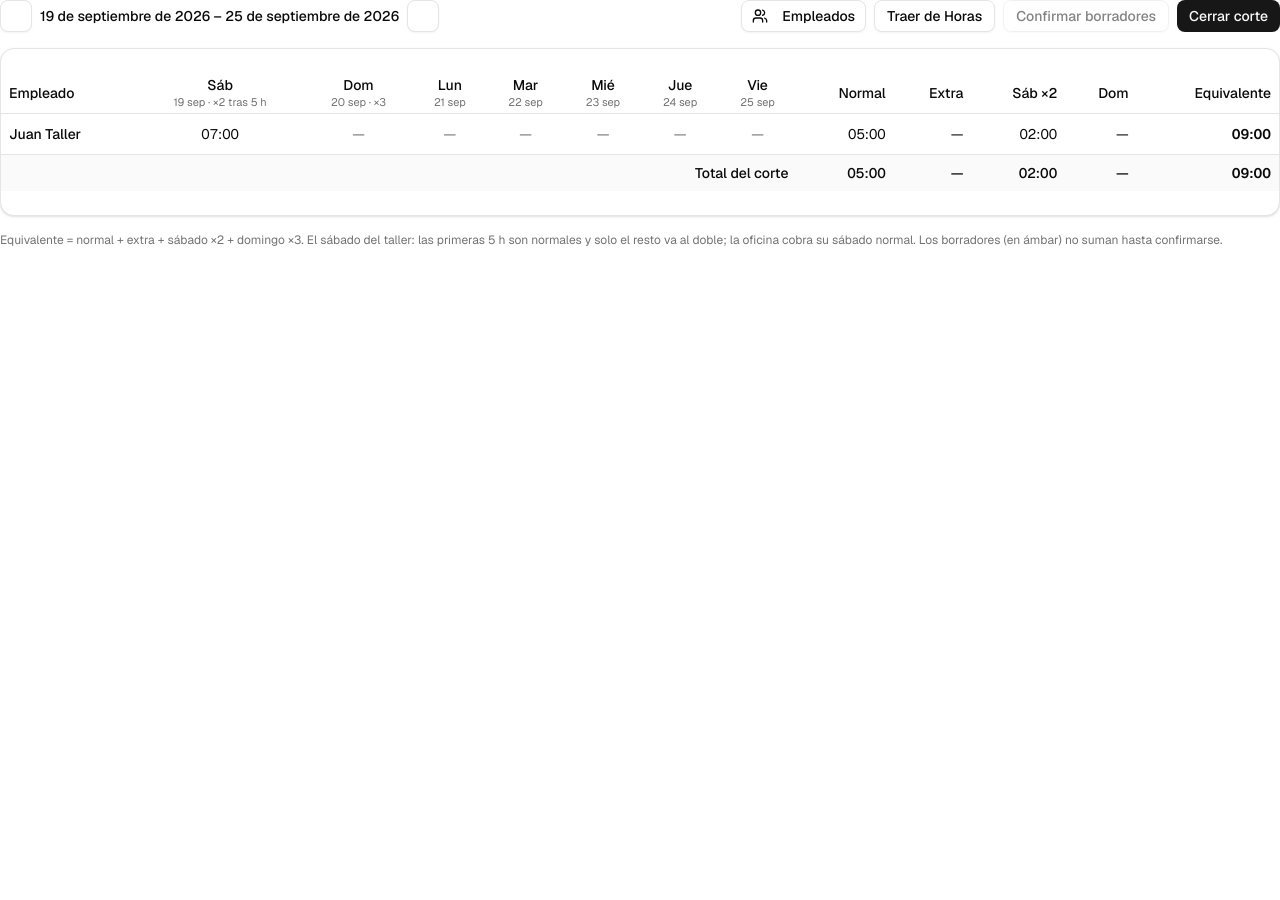
Scenario: PayrollView › REGLA #135: el diálogo del sábado explica el taller (5 h normales + el resto al doble) y la oficina (todo normal)
Click the button named "Juan Taller, Sáb" at [220, 134], box x1=140 y1=118 x2=300 y2=150
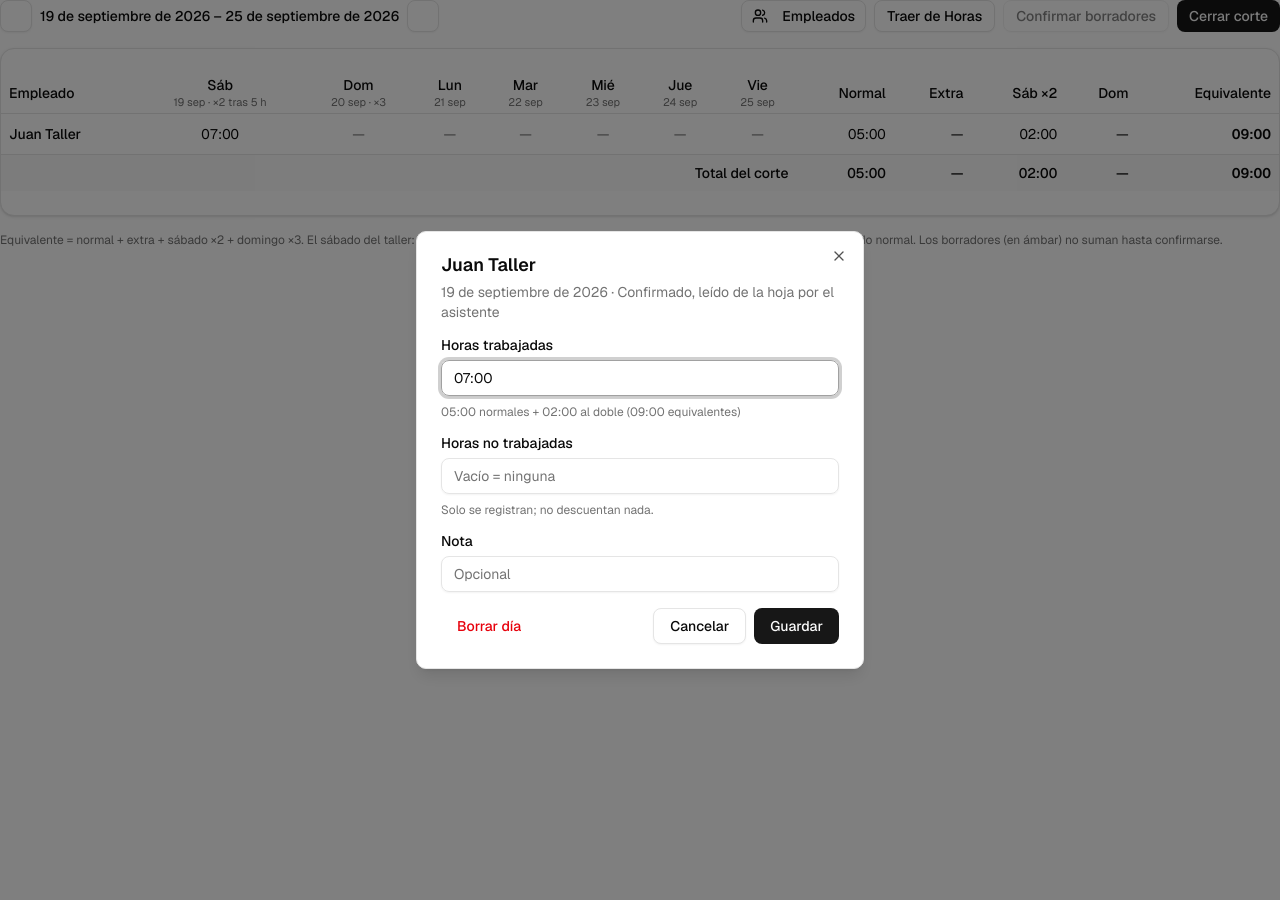
Expected: the text "05:00 normales + 02:00 al doble (09:00 equivalentes)" is shown, x1=441 y1=404 x2=740 y2=420
